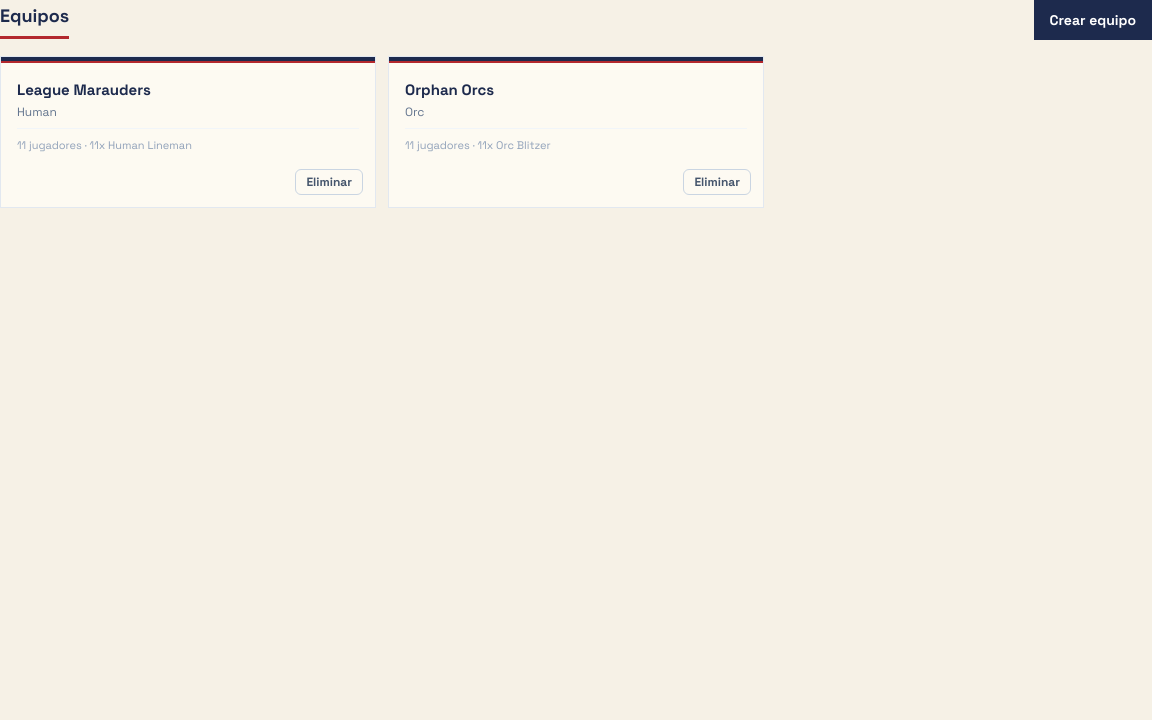
TeamList — archive-guard (409) surface › falls back to the league id in the guard message when the league name cannot be resolved
Expected: the heading "League Marauders" is shown, [17, 80, 151, 99]
Click the button with aria-label "Eliminar League Marauders". click: (329, 182)
box: [295, 169, 363, 195]
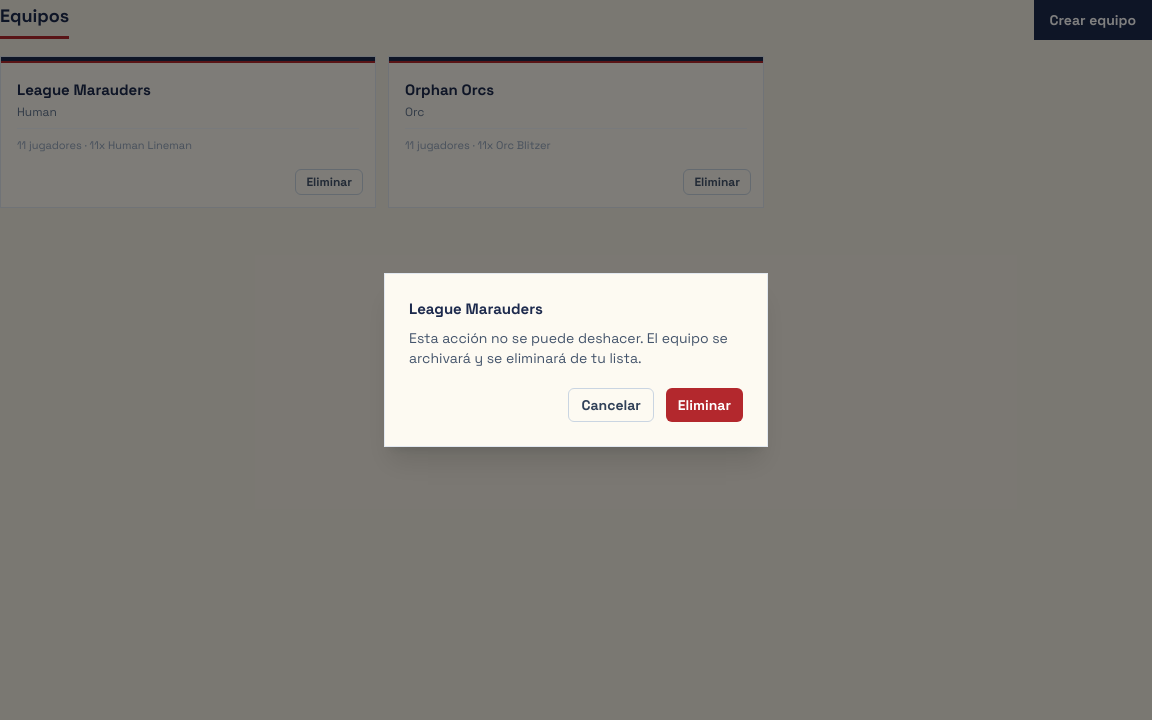
Click the button "Eliminar". click: (704, 405)
box: [666, 388, 743, 422]
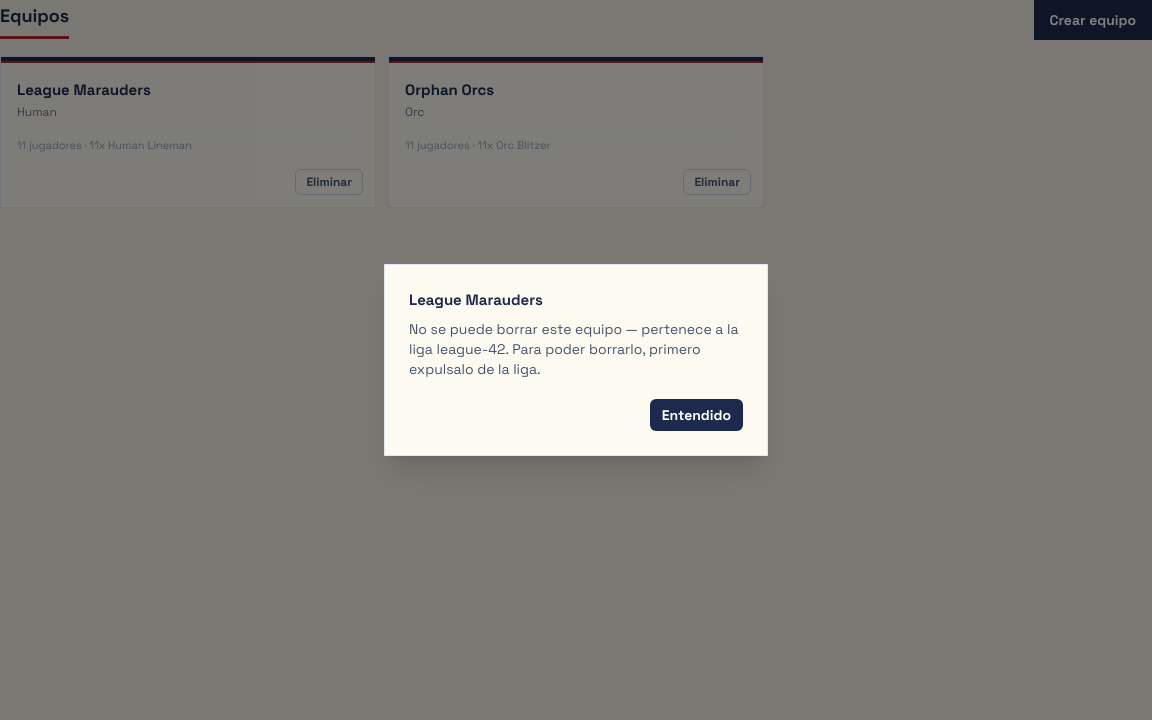
Result: the text "No se puede borrar este equipo — pertenece a la liga league-42. Para poder borrarlo, primero expulsalo de la liga." is shown at [409, 320, 738, 378]
Result: the button "Entendido" is shown at [650, 399, 743, 431]
